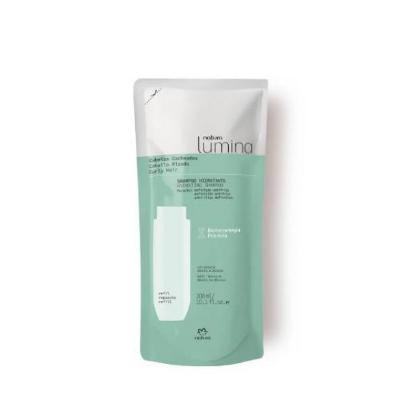Plastic Packaging: (126, 75, 276, 369)
